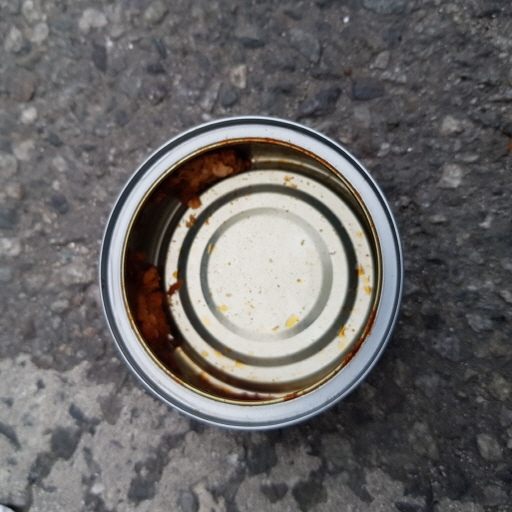Metal_1: (95, 113, 408, 439)
